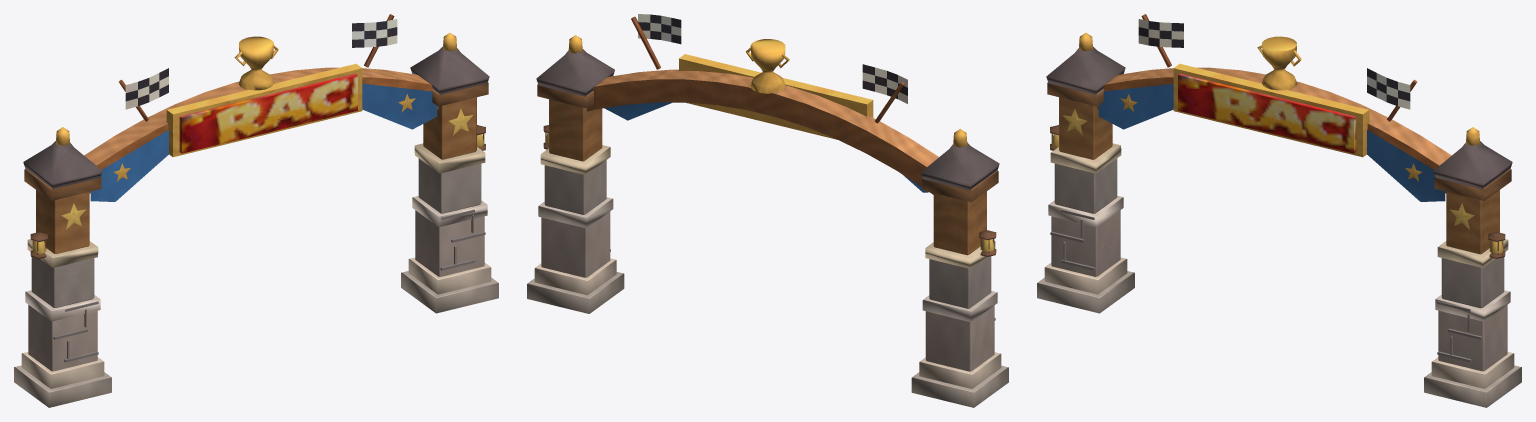
File: race_start_gate.glb
3 renders of one model, left to right at view 1: azimuth 30°, elevation 25°; view 2: azimuth 150°, elevation 25°; view 3: azimuth 330°, elevation 25°, orthographic.
Parts seen in each view (by area): view 1: Body; view 2: Body; view 3: Body.
Part boxes in pixels (x1,y1,x2,y2): Body: [14, 14, 498, 407]; Body: [527, 14, 1008, 407]; Body: [1037, 14, 1521, 407].
Size of the model in its own units: 6.78 by 4.24 by 0.9059.
Materials: 1 (1 with a texture image).
